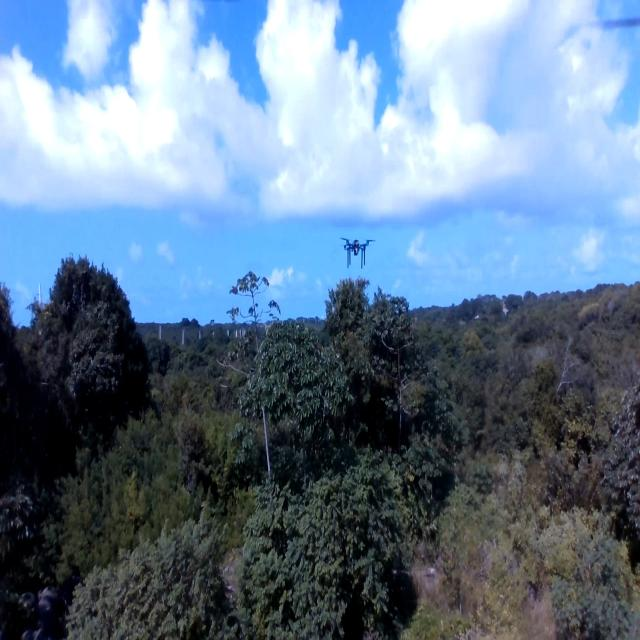-uav-: (336, 228, 378, 285)
